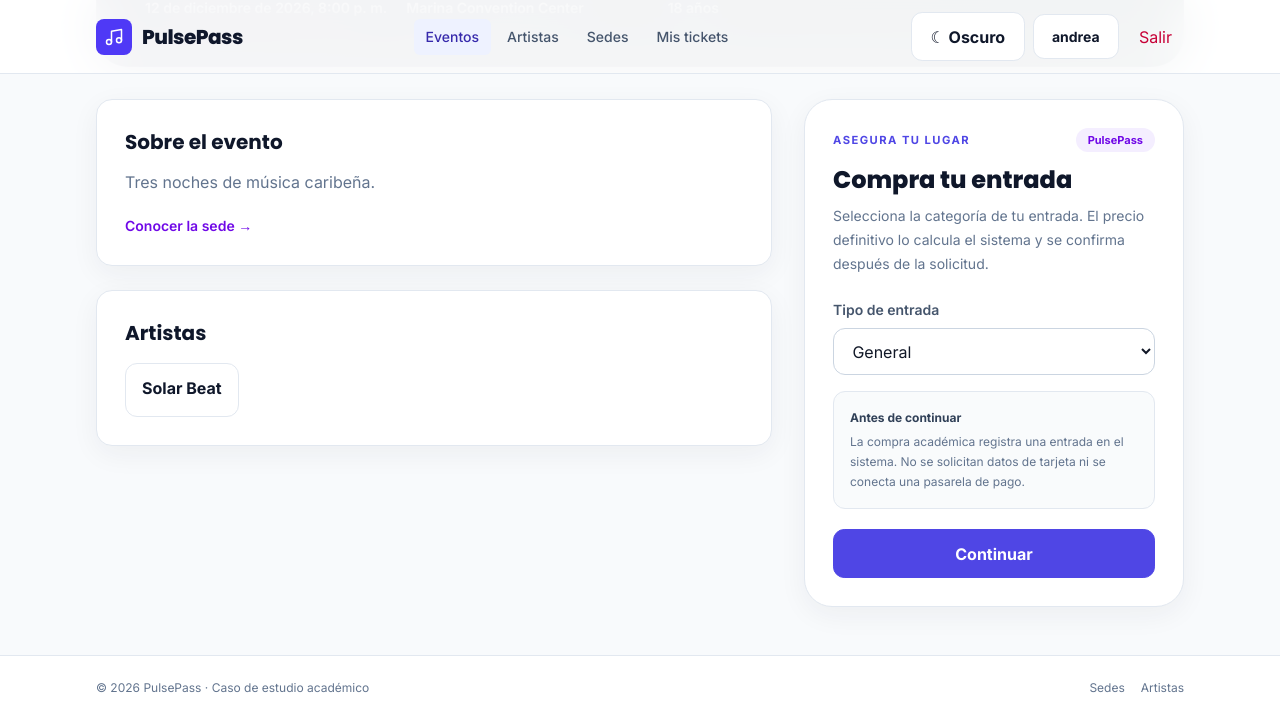
compra de tickets › compra válida envía el email de la sesión, recibe 201 y navega a la confirmación
(page scrolled)
Click the button "Continuar" at coordinates (994, 554), box [833,529,1155,578]
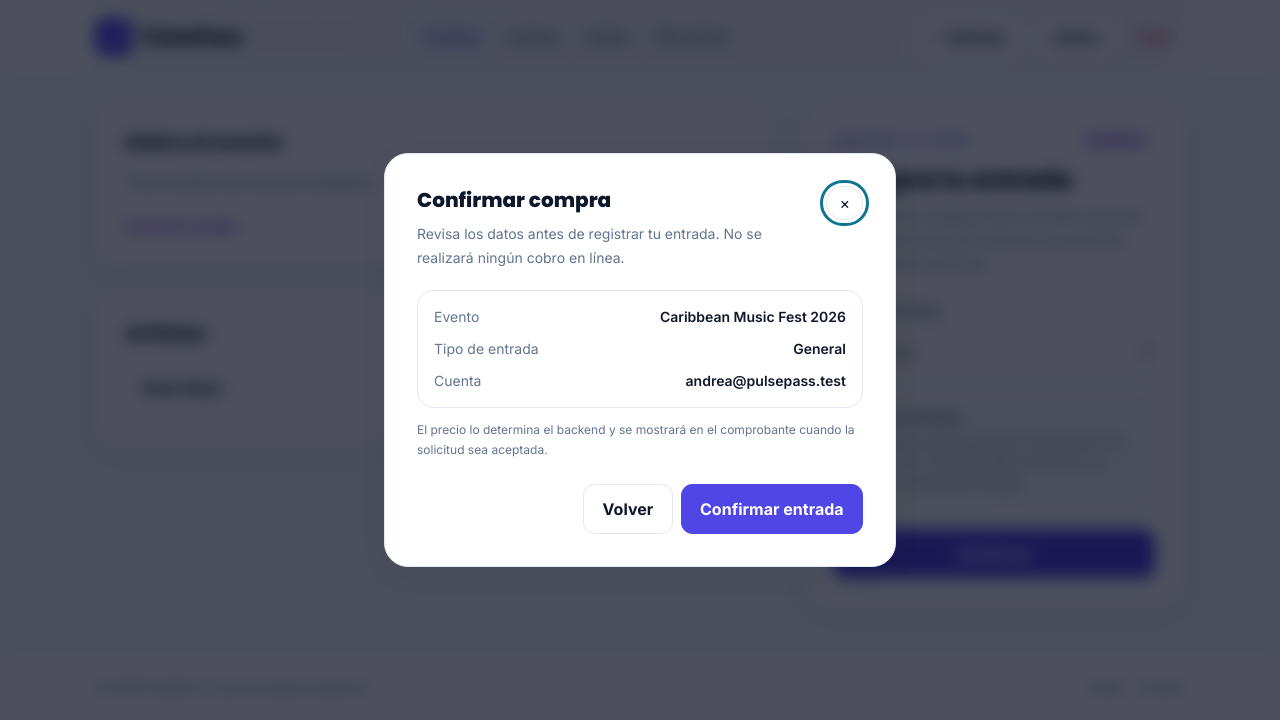
Click the button "Confirmar entrada" at coordinates (772, 509), box [681,484,863,534]
(page scrolled)
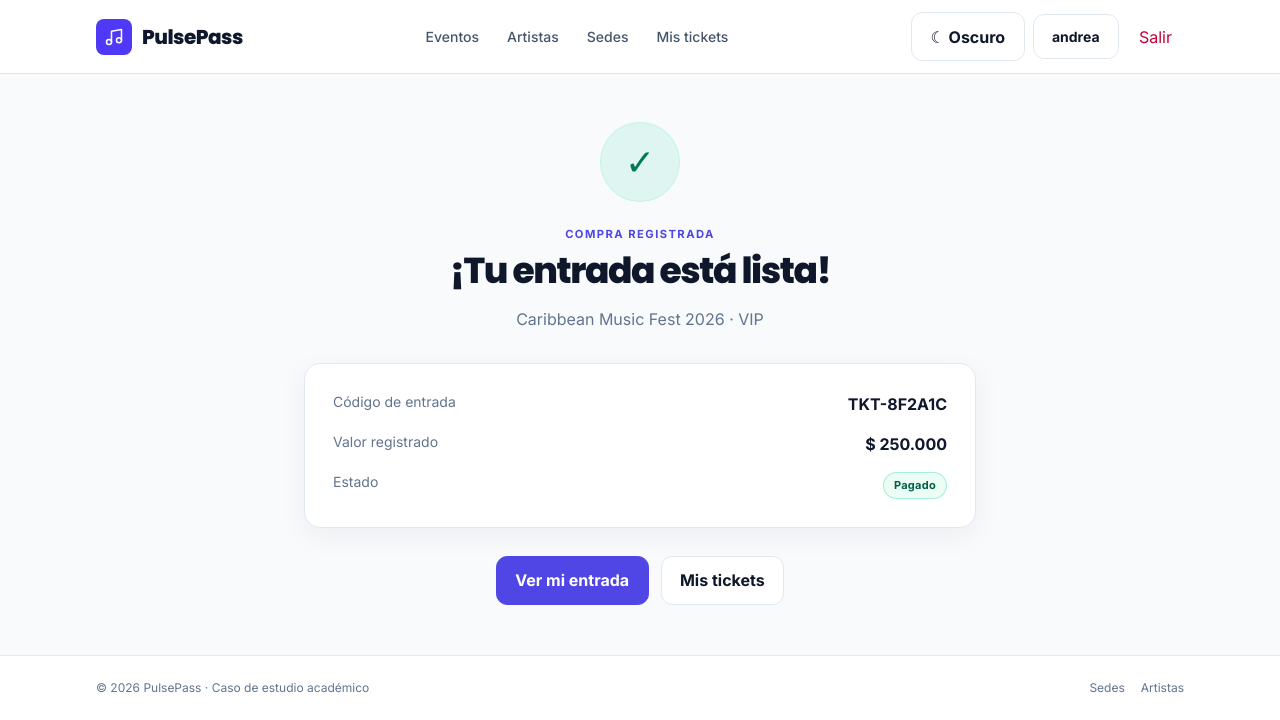
expect the heading "¡Tu entrada está lista!" is shown: met, box [450,245,830,296]
